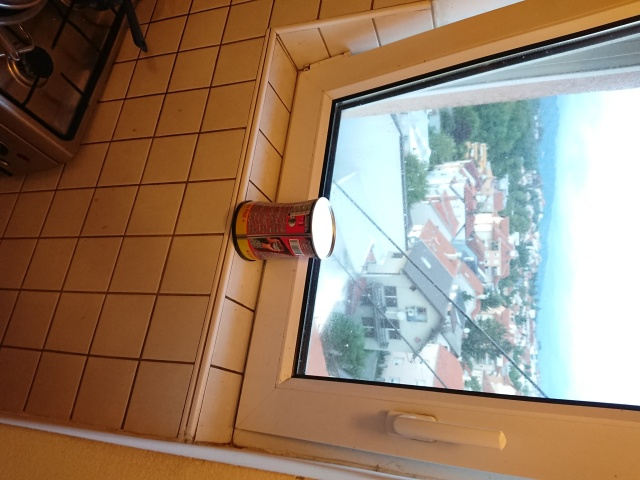Nescafe Classic 225g: (229, 193, 340, 264)
